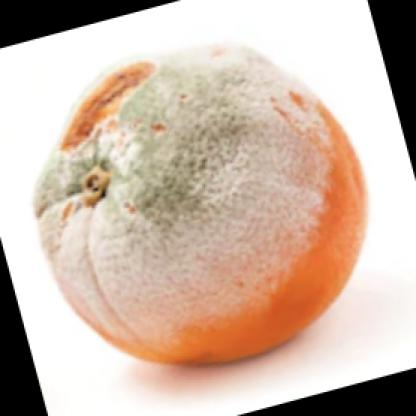rotten_orange: (16, 37, 380, 372)
